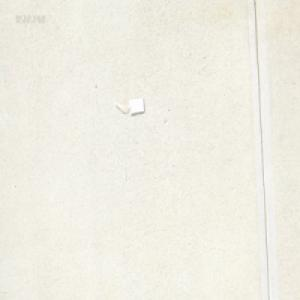LuggageTag: (111, 95, 145, 114)
